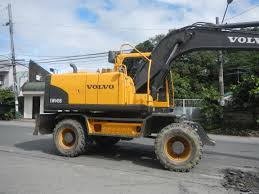excavator: (32, 26, 258, 170)
